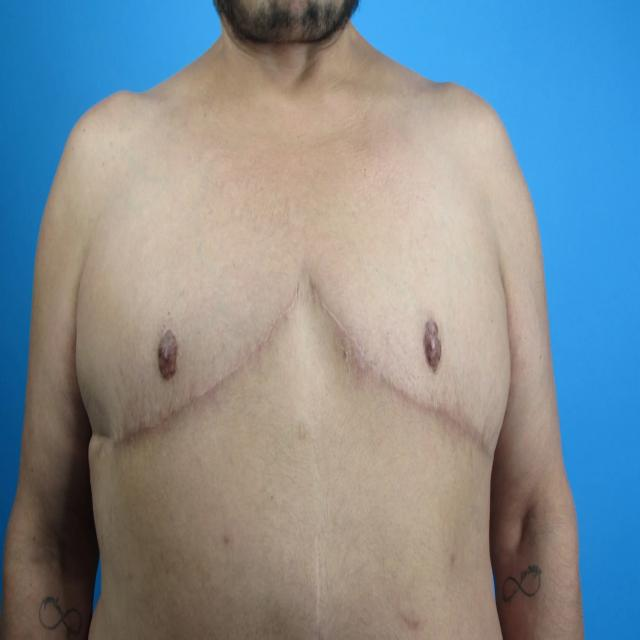Seno herido: (76, 217, 305, 486), (310, 218, 512, 487)
